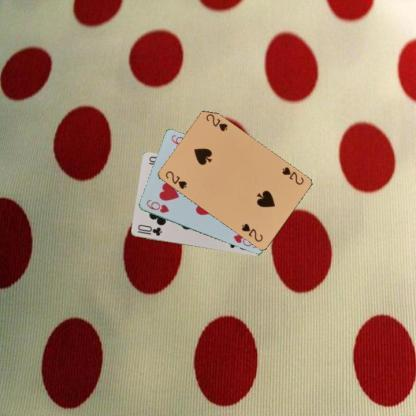10c: (134, 221, 164, 238)
2s: (162, 168, 188, 190), (280, 164, 304, 186)
6h: (144, 197, 170, 214)
